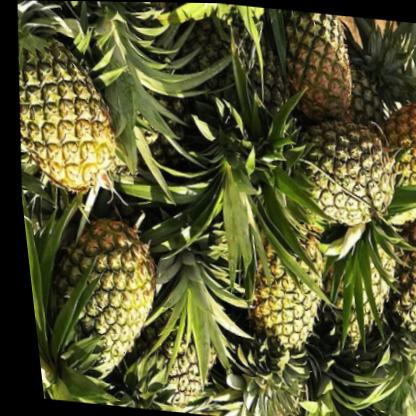----: (32, 213, 169, 391), (4, 32, 135, 205), (215, 224, 336, 404), (260, 105, 415, 236), (270, 9, 363, 125)
